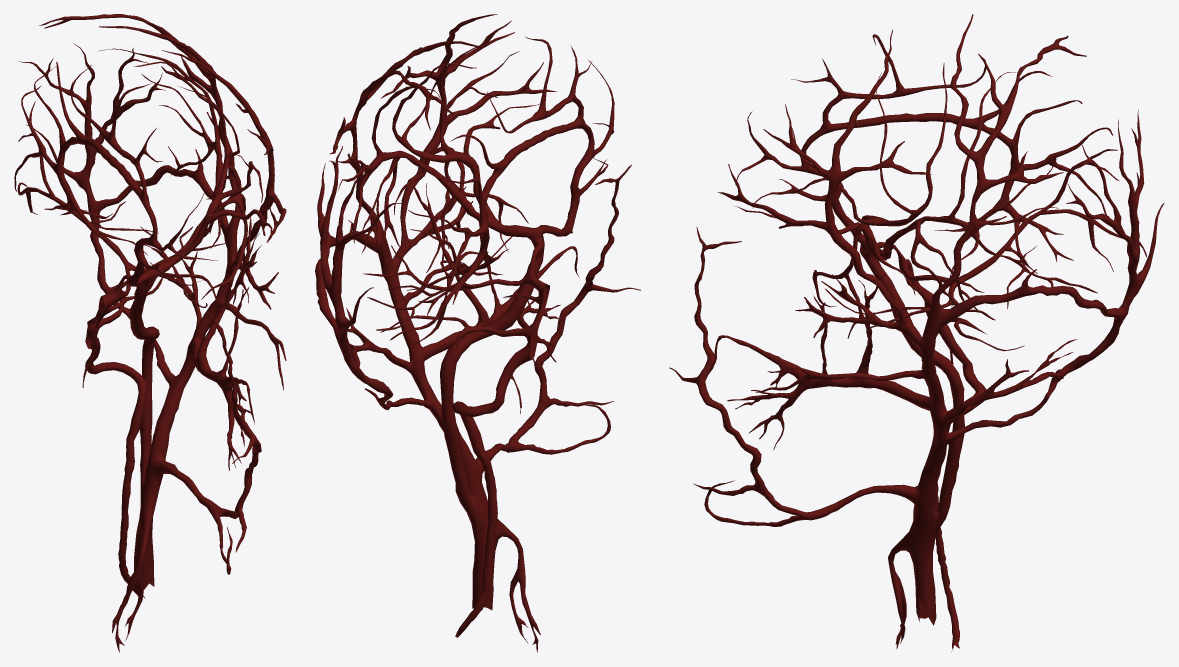
File: Arteries_Iliaca_communis.005.obj
3 renders of one model, left to right at view 1: azimuth 30°, elevation 25°; view 2: azimuth 150°, elevation 25°; view 3: azimuth 270°, elevation 25°, orthographic. The views are drawn at different scales.
Parts seen in each view (by area): view 1: Arteries_Iliaca_communis.005_Arteries_lower.004; view 2: Arteries_Iliaca_communis.005_Arteries_lower.004; view 3: Arteries_Iliaca_communis.005_Arteries_lower.004.
Part boxes in pixels (<box>): Arteries_Iliaca_communis.005_Arteries_lower.004: <box>14,14,286,652</box>; Arteries_Iliaca_communis.005_Arteries_lower.004: <box>315,14,640,652</box>; Arteries_Iliaca_communis.005_Arteries_lower.004: <box>669,14,1164,652</box>.
Size of the model in its own units: 0.4175 by 1.5 by 1.05.
